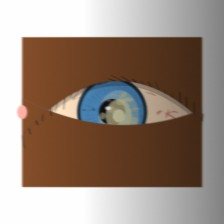corneal_ulcer: (92, 94, 145, 137)
